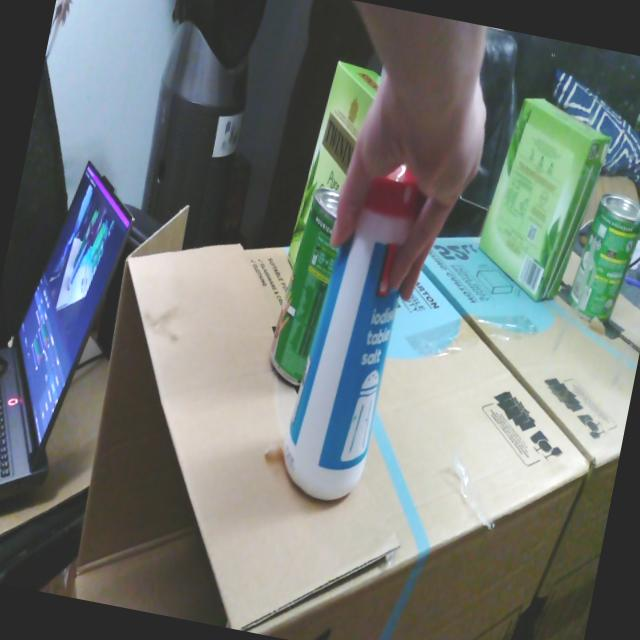nestle_milo_tin: (271, 188, 340, 386)
twinings_greentea_box: (288, 62, 380, 268)
woolworths_salt_bottle: (284, 165, 422, 500)
